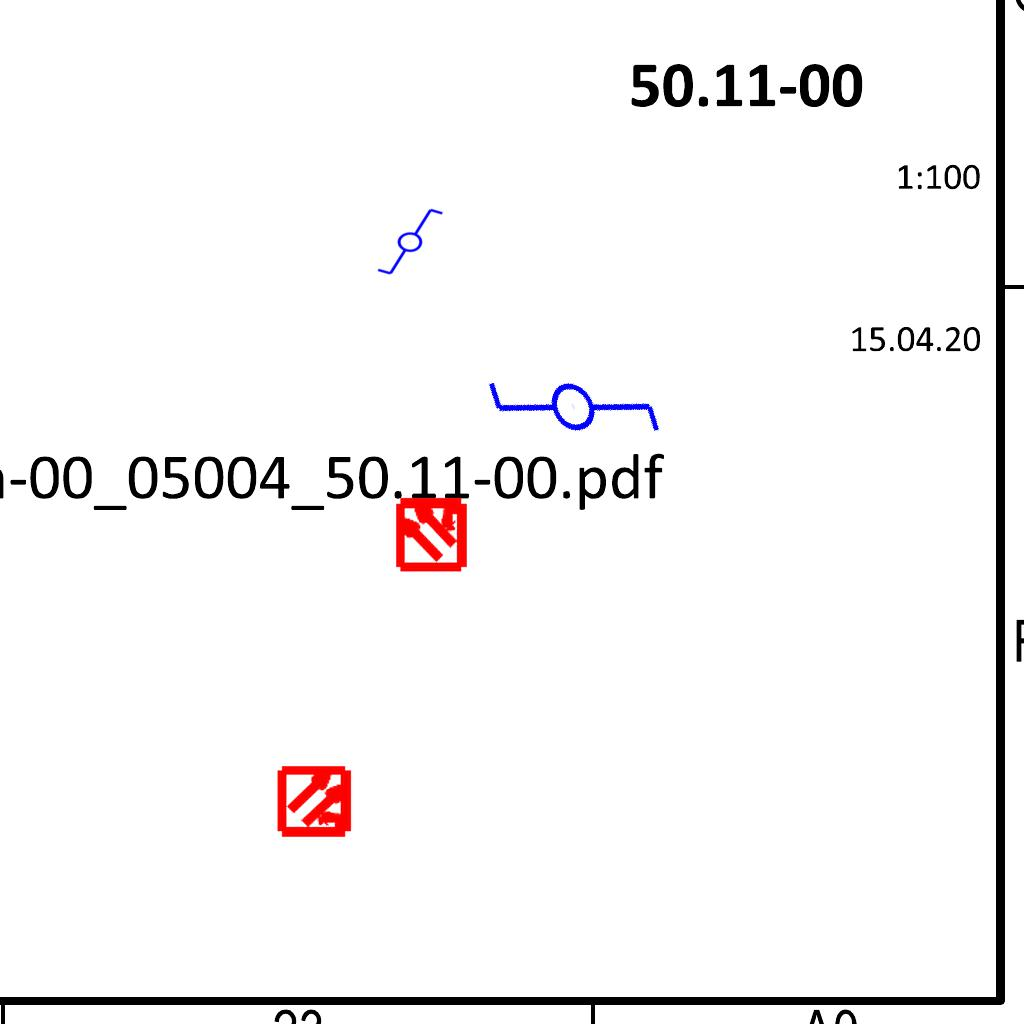OT_Multisensormelder_(Kombination_RMO_WMD): (260, 745, 373, 858), (375, 476, 488, 589)
Wechselschalter: (467, 293, 674, 505), (367, 205, 445, 277)
